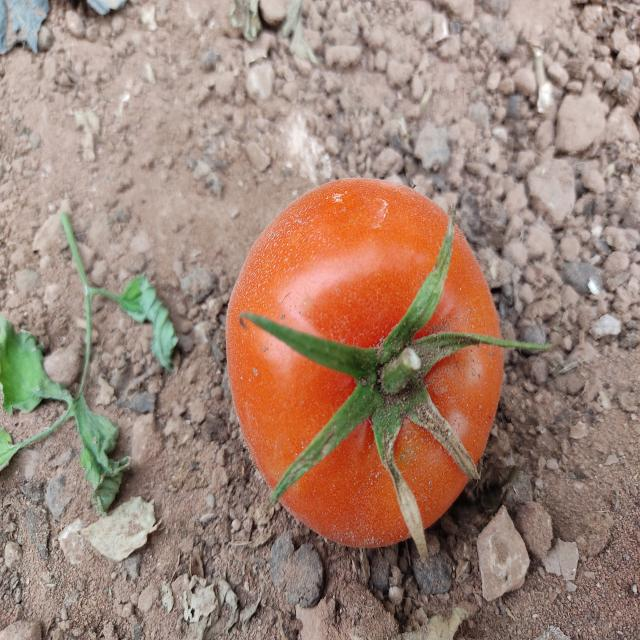Ripe Tomato: (230, 182, 505, 544)
